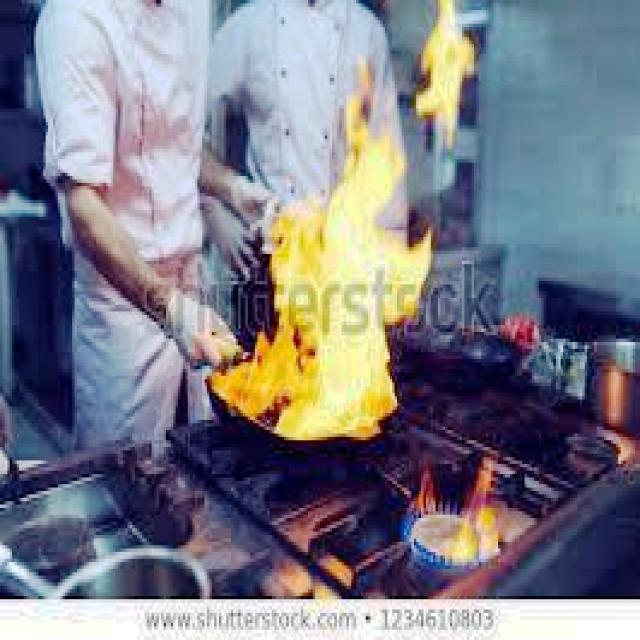api: (211, 140, 442, 472)
